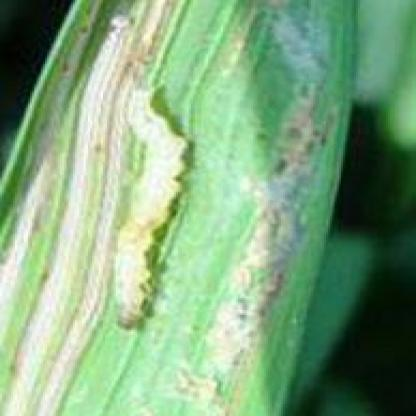leaf-folder: (78, 74, 211, 333)
